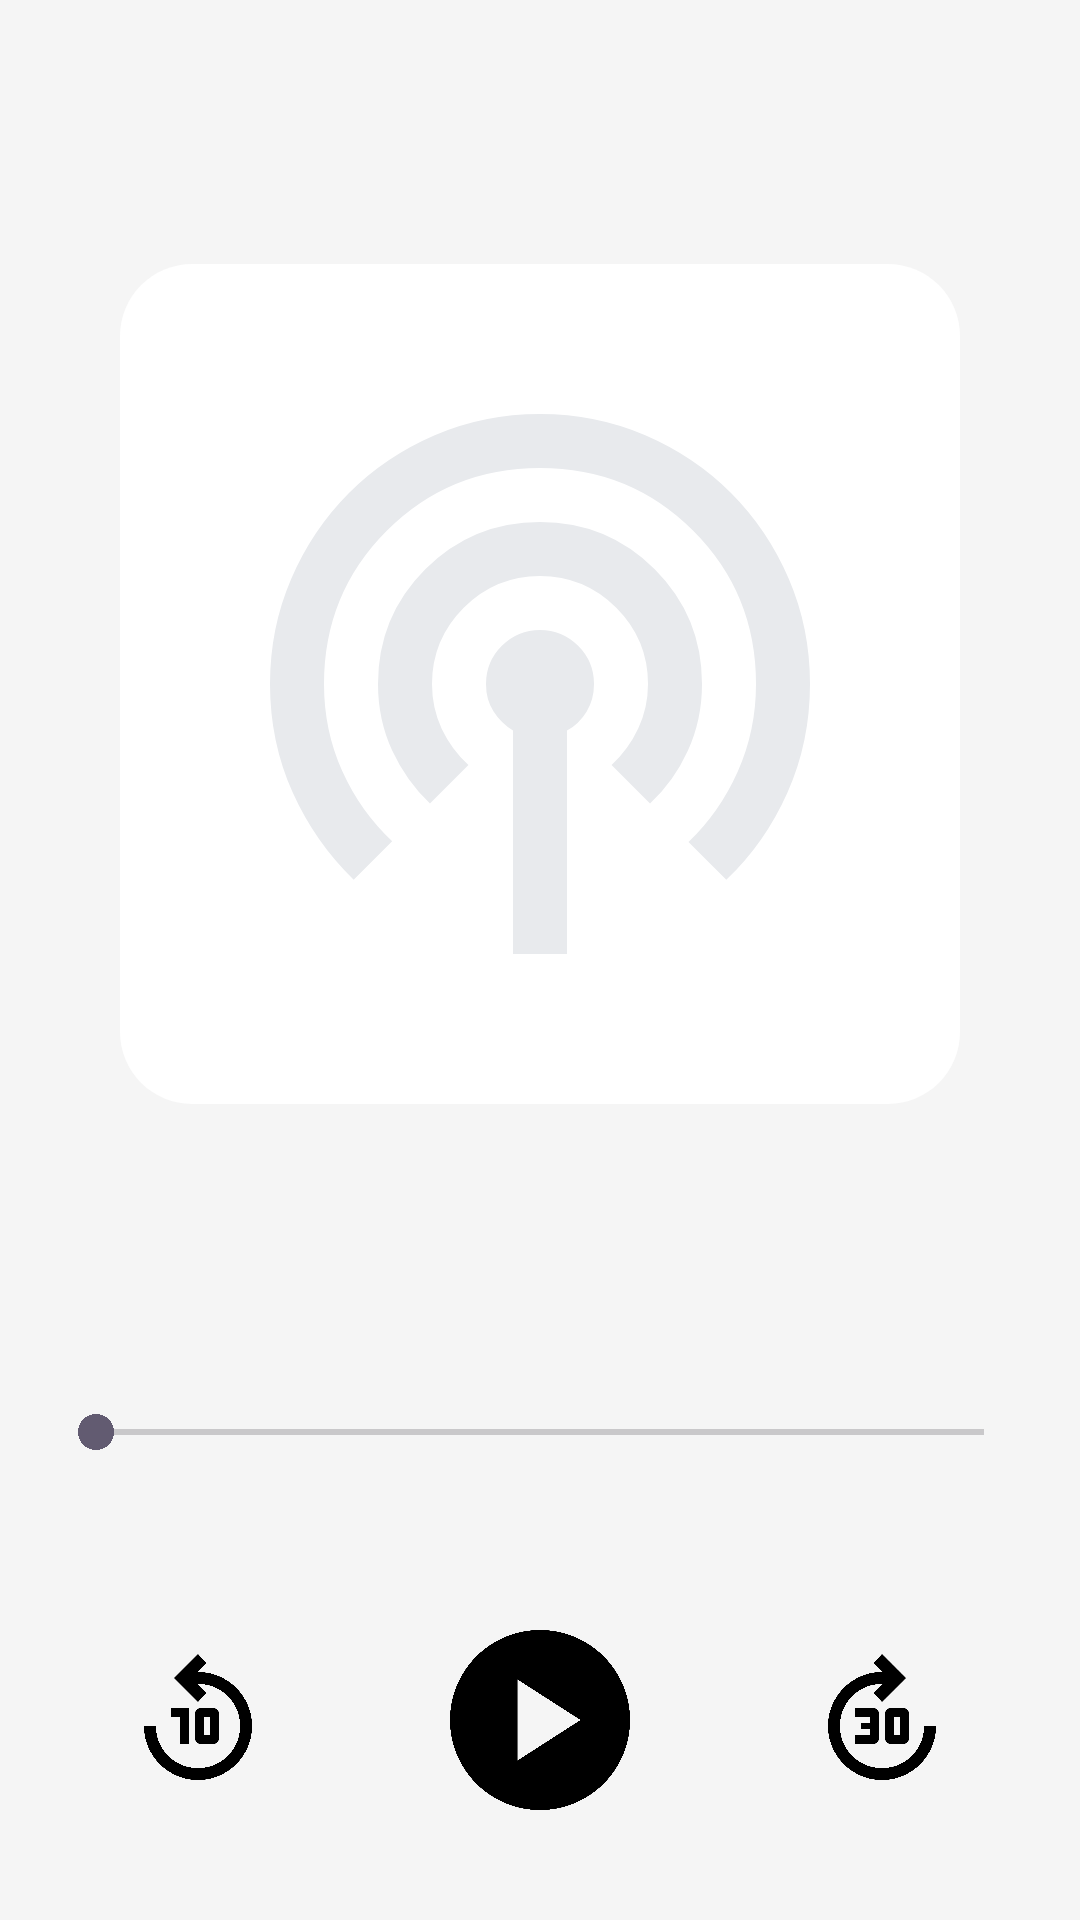

Where to tap for icons on this 1080x1920 app screen, as (x=x, y=y):
forward: (x=882, y=1717)
play circle: (x=540, y=1720)
replay: (x=198, y=1717)
